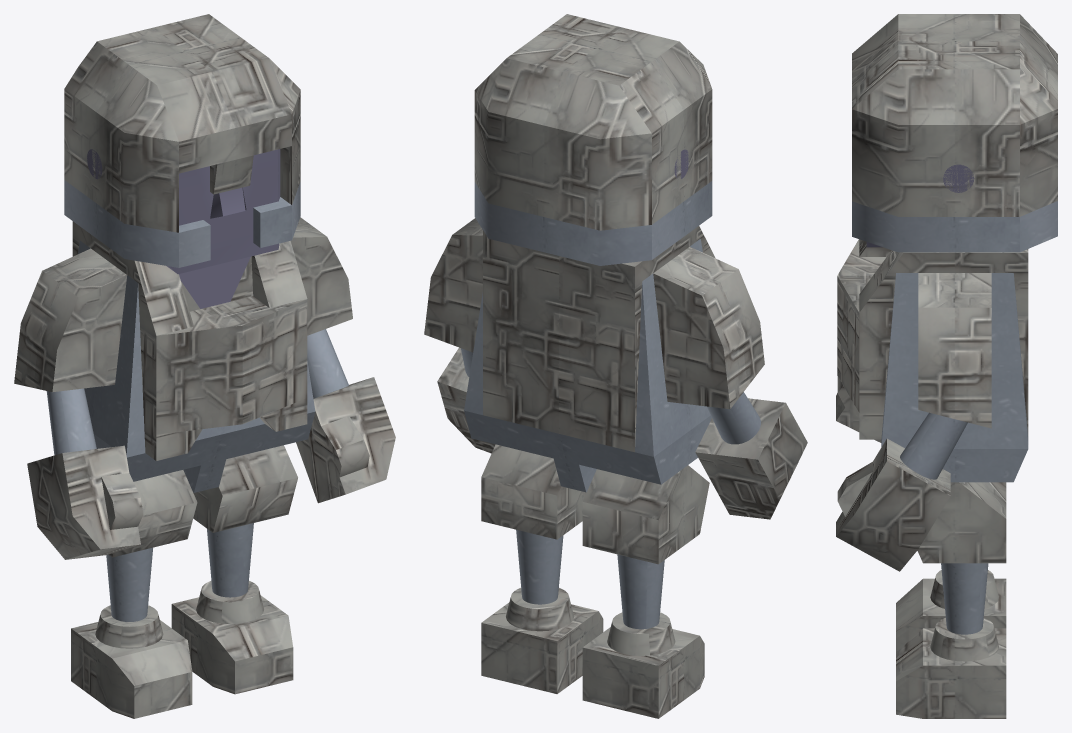
The model's file is SuitOfArmor.fbx.
3 views of the same model, side by side, from view 1: azimuth 30°, elevation 25°; view 2: azimuth 150°, elevation 25°; view 3: azimuth 270°, elevation 25° (orthographic).
Parts seen in each view (by area): view 1: mergedBlocks; view 2: mergedBlocks; view 3: mergedBlocks.
Part boxes in pixels (box(x1,y1,x2,y2)): mergedBlocks: box(14, 14, 395, 718); mergedBlocks: box(424, 14, 807, 718); mergedBlocks: box(836, 14, 1057, 718).
Bounding box in the file's own units: 5.25 × 9.51 × 3.02.
